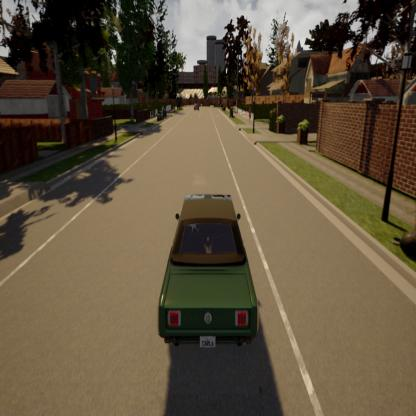Cars: (158, 194, 258, 352), (194, 100, 199, 114)
Pedestrian: (248, 105, 252, 122)
